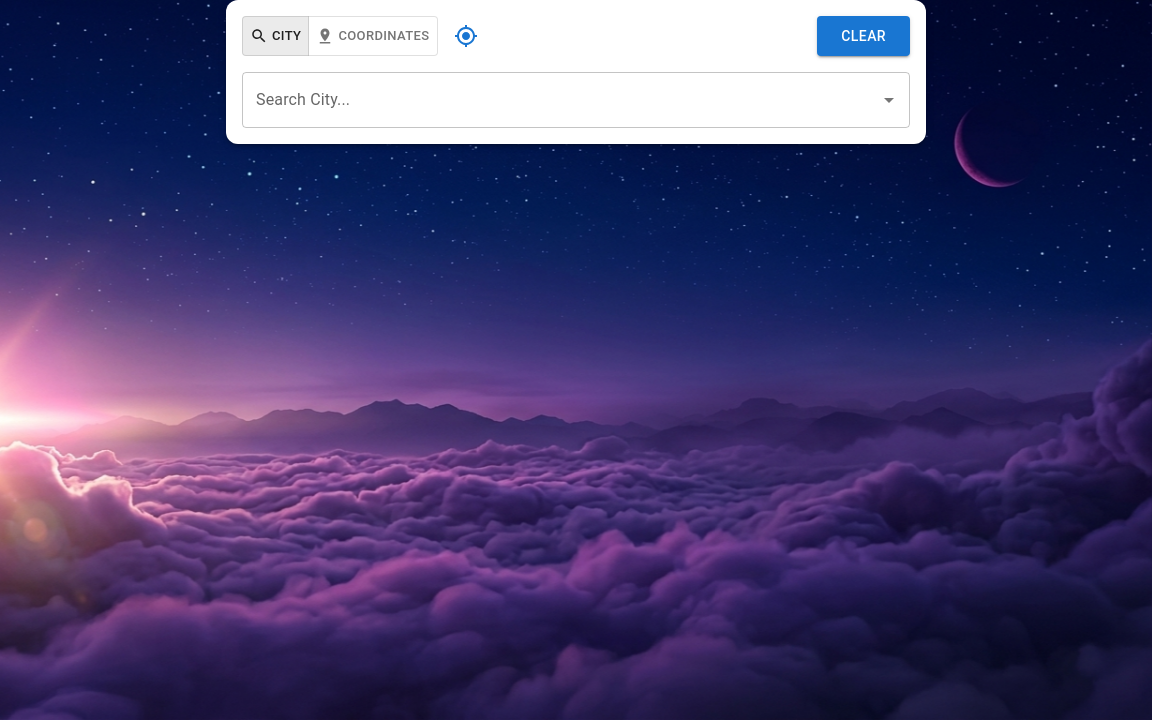
Test: SearchBar Component › Mode Toggle › clears a coordinate validation error when switching modes
Click the button with aria-label "coordinates search".
click(373, 36)  # box top-left (308, 16), bottom-right (438, 56)
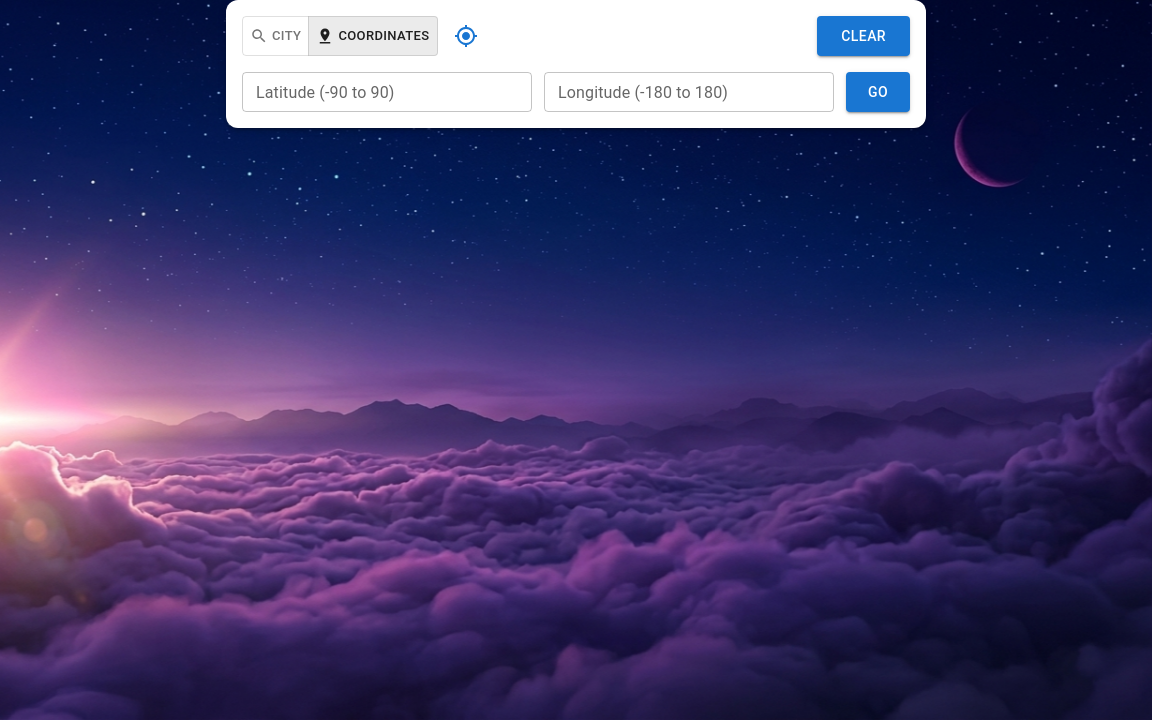
Type "100" into the number field labelled "Latitude (-90 to 90)".
click(387, 92); type("100")  # box top-left (242, 72), bottom-right (532, 112)
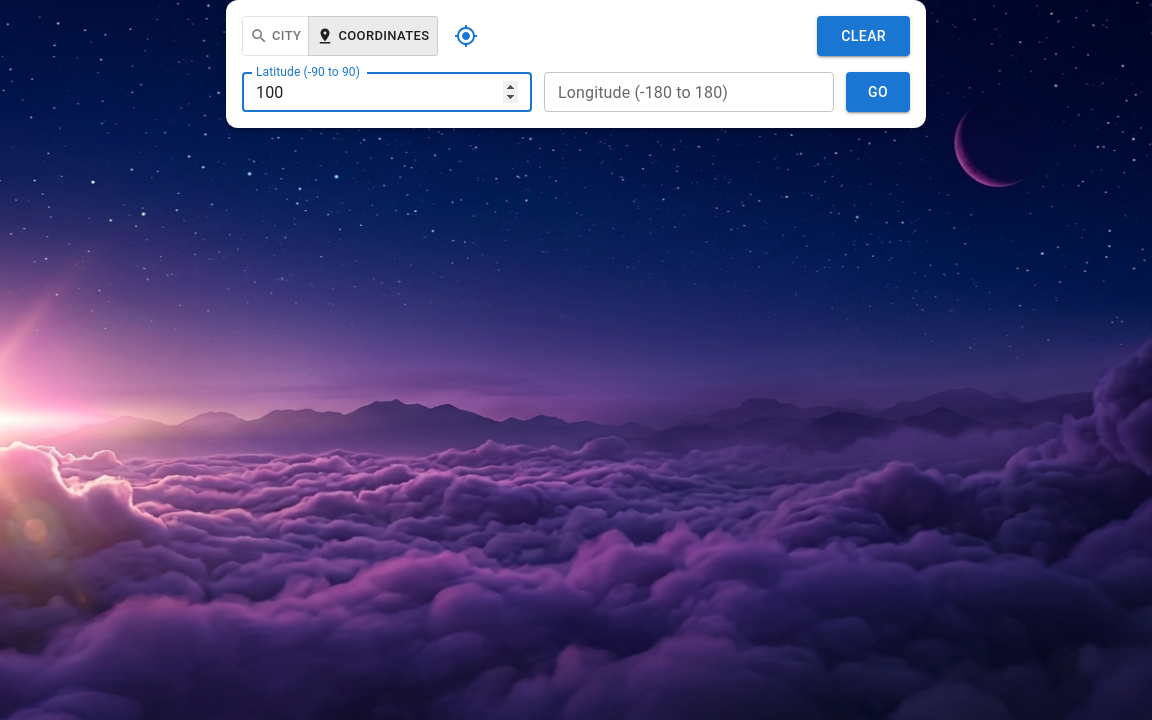
Type "45" into the number field labelled "Longitude (-180 to 180)".
click(689, 92); type("45")  # box top-left (544, 72), bottom-right (834, 112)
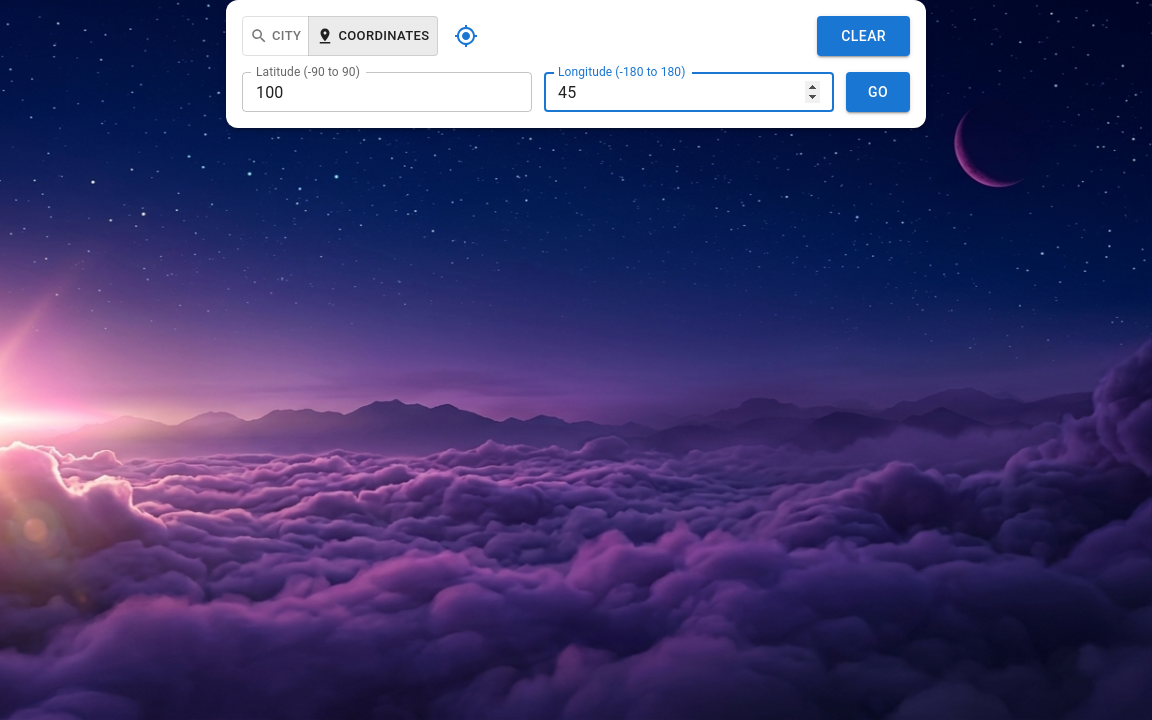
Click the button "Go".
click(878, 92)  # box top-left (846, 72), bottom-right (910, 112)
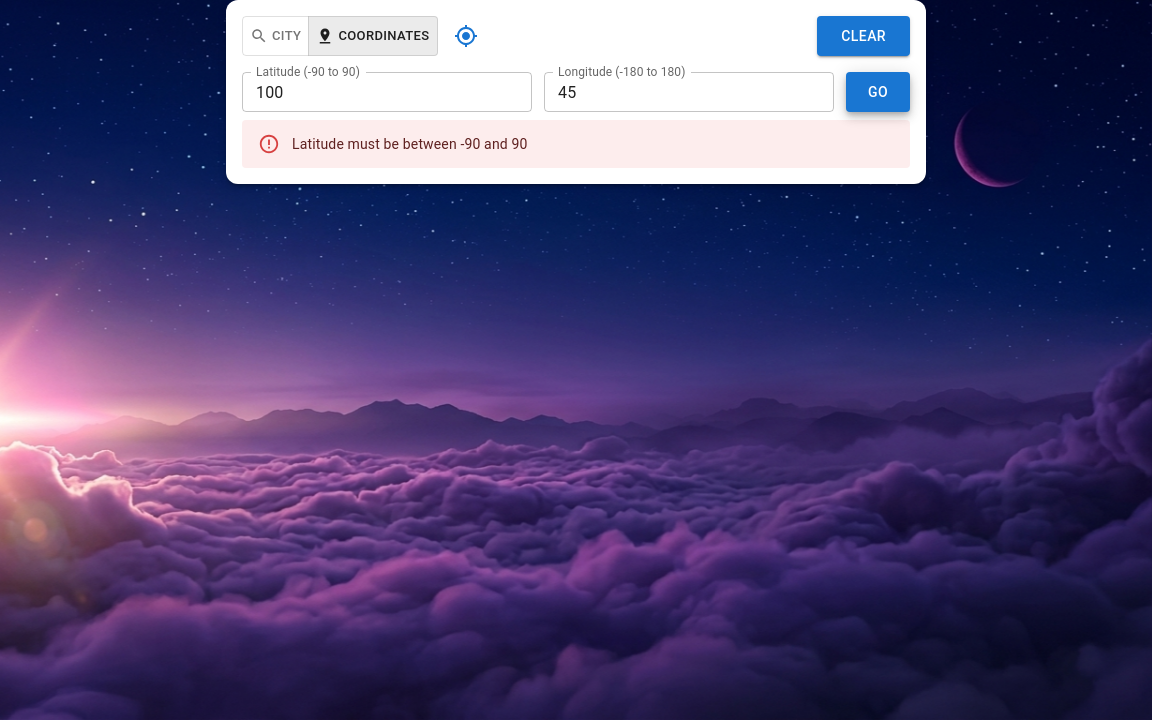
Check: the text "Latitude must be between -90 and 90" is shown, box top-left (292, 136), bottom-right (528, 152)
Click the button with aria-label "city search".
click(276, 36)  # box top-left (242, 16), bottom-right (309, 56)
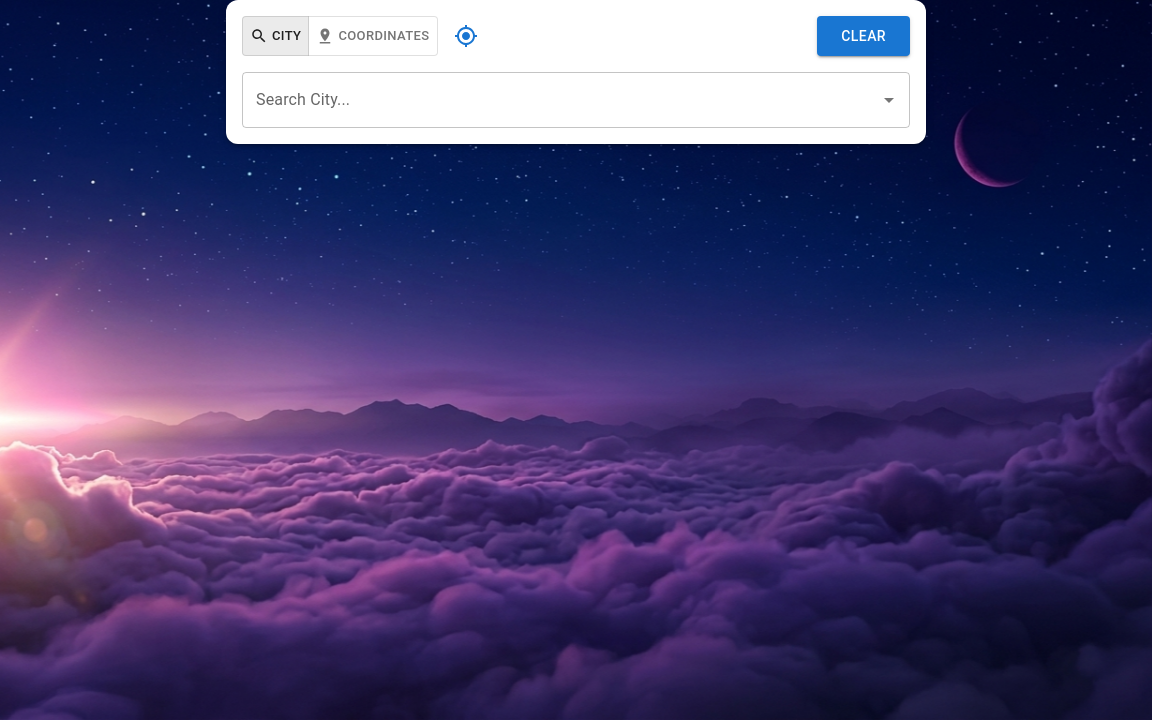
Check: the text "Latitude must be between -90 and 90" is gone
